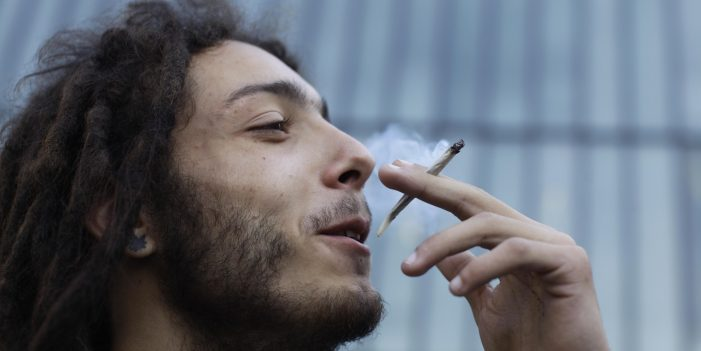cigarette: (373, 133, 470, 240)
